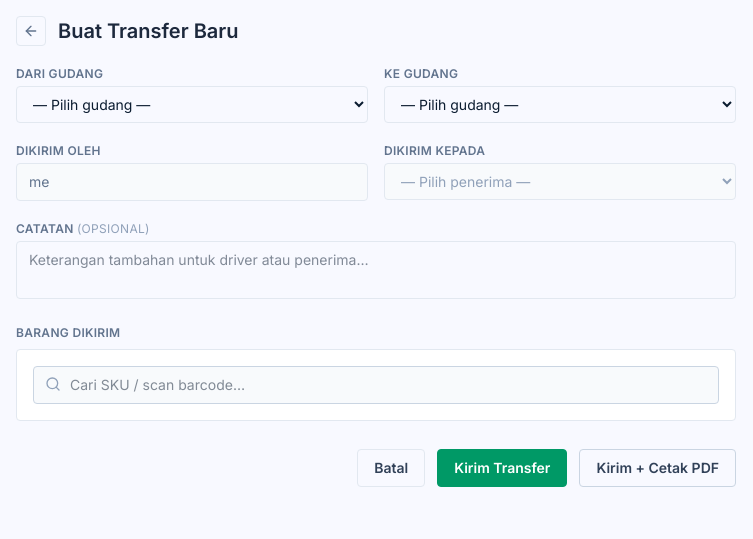
WarehouseTransferCreateScreen › F5-14: shows empty-state helper when toId selected but no receivers
The width and height of the screenshot is (753, 539).
Select "Gudang Atas" in the dropdown labelled "Dari Gudang": (192, 104) [16,86,368,123]
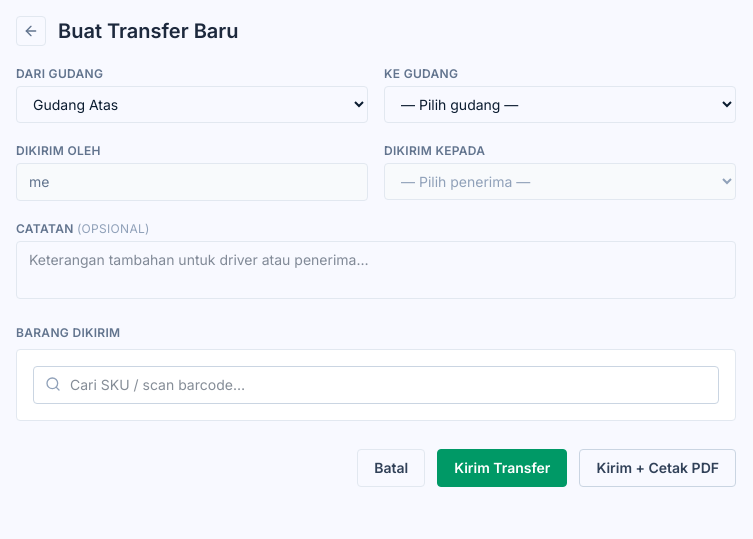
Select "Gudang Bawah" in the dropdown labelled "Ke Gudang": (560, 104) [384,86,736,123]
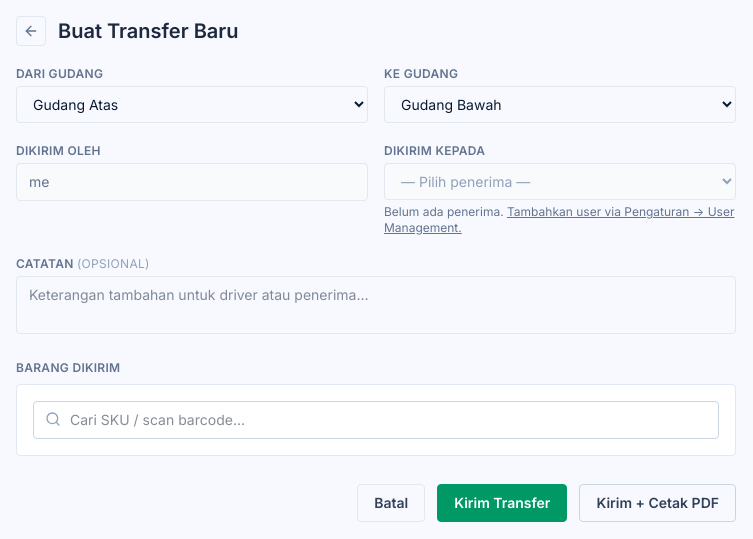
Expected: the text "Belum ada penerima" is shown, [384,204,504,219]
Expected: the link "Tambahkan user via Pengaturan → User Management." is shown, [384,204,734,235]
